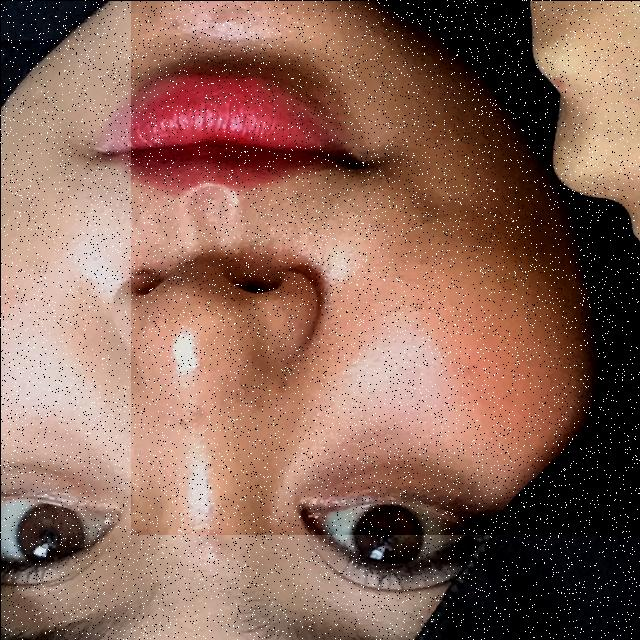telpon: (130, 0, 640, 534)
